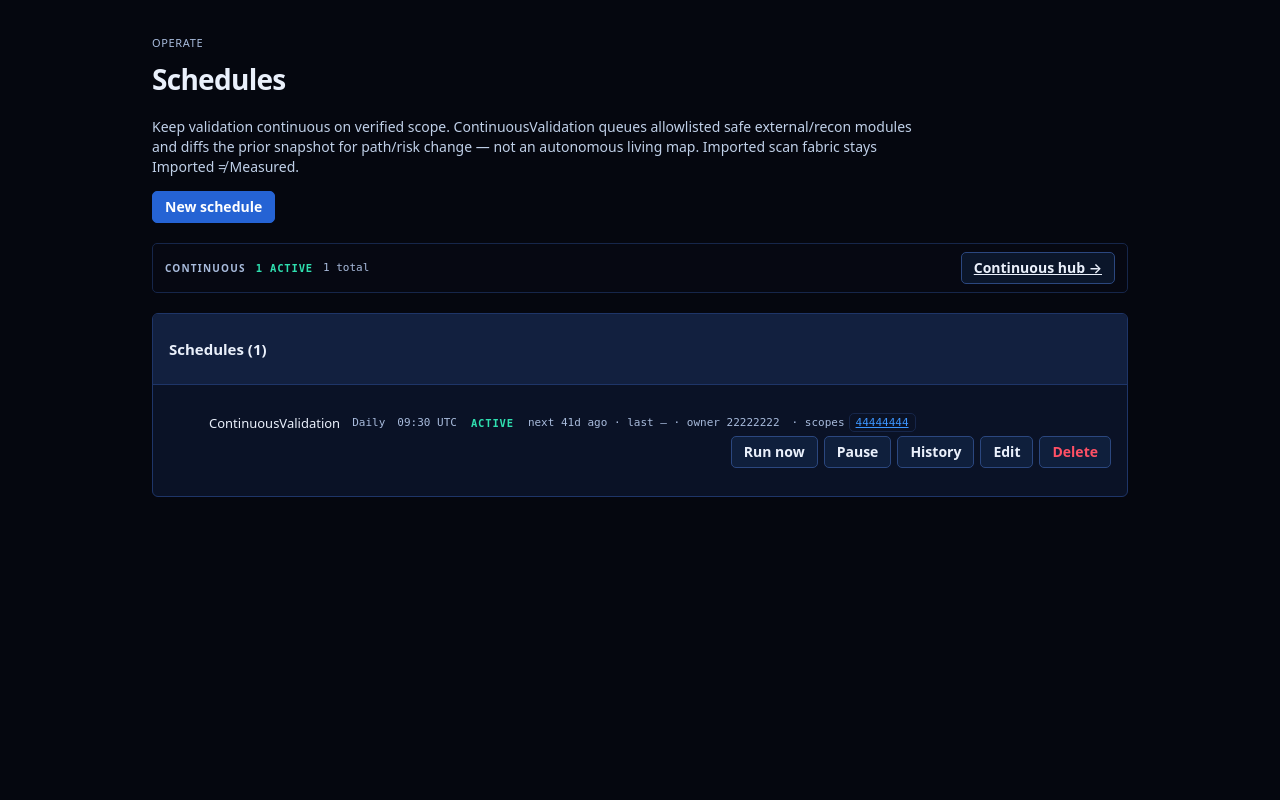
SchedulesWorkbench › hides the Community pack checkbox when editing a non-snapshot schedule
Check: the text "ContinuousValidation" is shown, box [209,414,340,432]
Click the button "Edit": point(1007, 452) [980,436,1034,468]
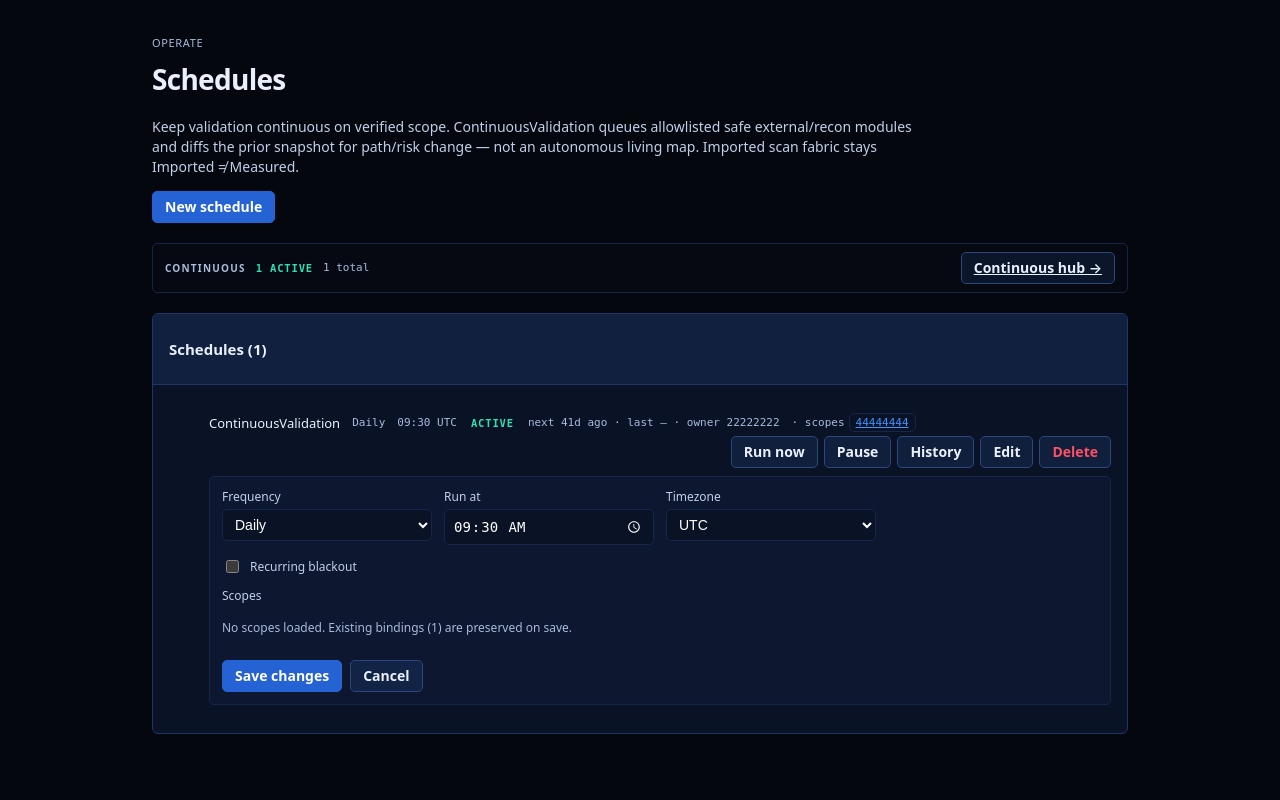
Check: the button "Save changes" is shown, box [222,660,342,692]
